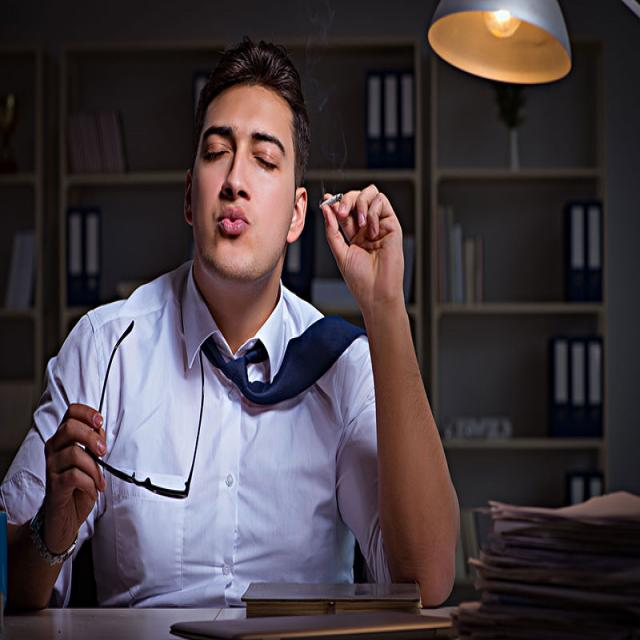smoking: (318, 192, 342, 211)
